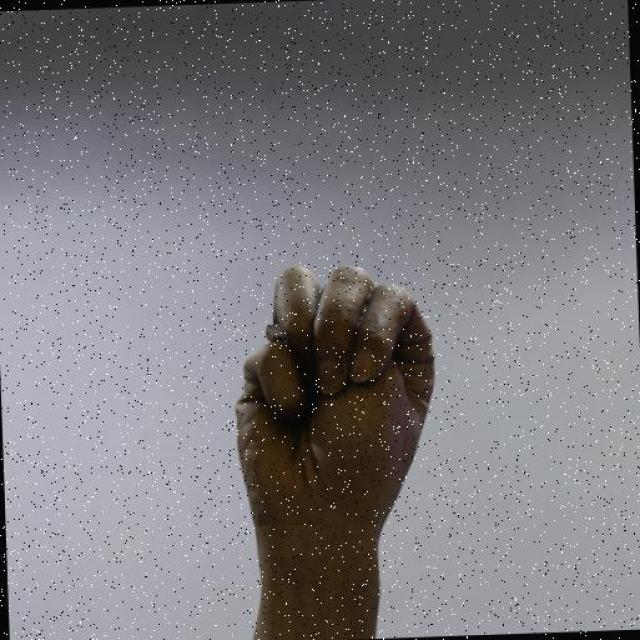M: (226, 255, 446, 557)
